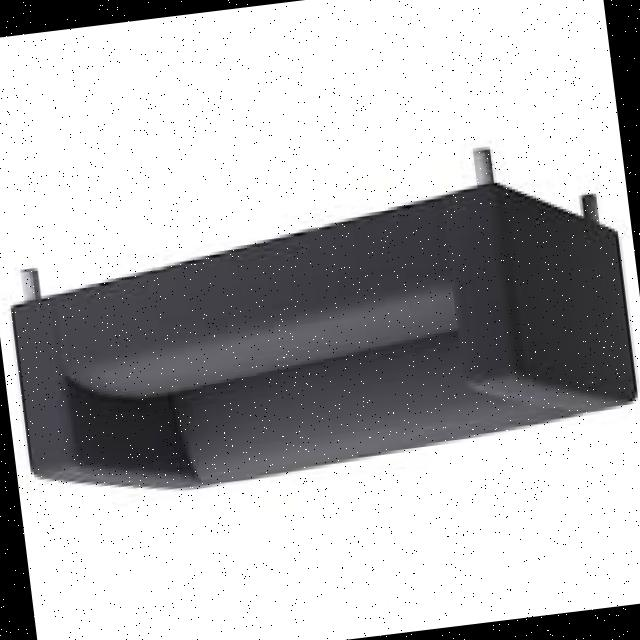Sofa: (0, 114, 640, 536)
